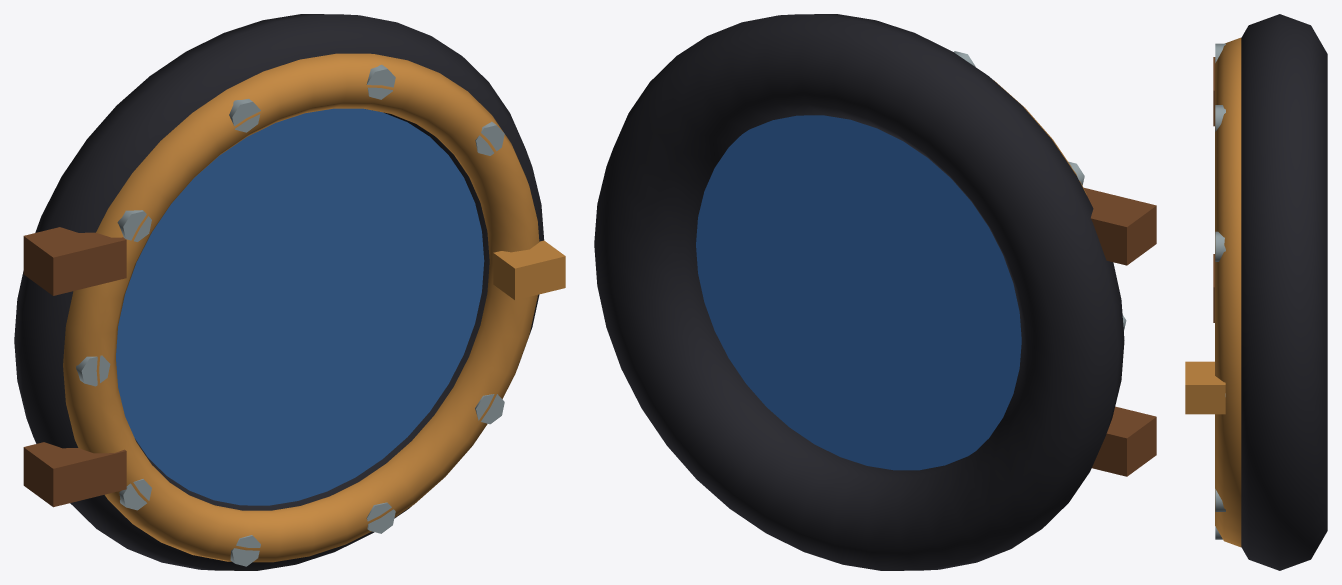
The model's file is mia-porthole.glb.
The picture shows the model from 3 angles, left to right: view 1: azimuth 30°, elevation 25°; view 2: azimuth 150°, elevation 25°; view 3: azimuth 270°, elevation 25°; orthographic projection. The views are drawn at different scales.
Visible parts, largest first — view 1: Body_night-glass, Body_brass, Body_iron, Body_rust, Body_steel; view 2: Body_iron, Body_night-glass, Body_rust; view 3: Body_iron, Body_brass, Body_steel, Body_rust.
Boxes of the visible parts, x1=… form: Body_night-glass: x1=116, y1=108, x2=484, y2=505; Body_brass: x1=63, y1=53, x2=565, y2=562; Body_iron: x1=14, y1=14, x2=544, y2=570; Body_rust: x1=23, y1=227, x2=126, y2=507; Body_steel: x1=76, y1=64, x2=504, y2=566; Body_iron: x1=594, y1=14, x2=1124, y2=570; Body_night-glass: x1=696, y1=115, x2=1021, y2=470; Body_rust: x1=1084, y1=188, x2=1156, y2=476; Body_iron: x1=1241, y1=14, x2=1327, y2=570; Body_brass: x1=1185, y1=37, x2=1241, y2=547; Body_steel: x1=1215, y1=43, x2=1225, y2=539; Body_rust: x1=1213, y1=57, x2=1215, y2=322.
Bounding box in the file's own units: 0.738 × 0.734 × 0.1875.
